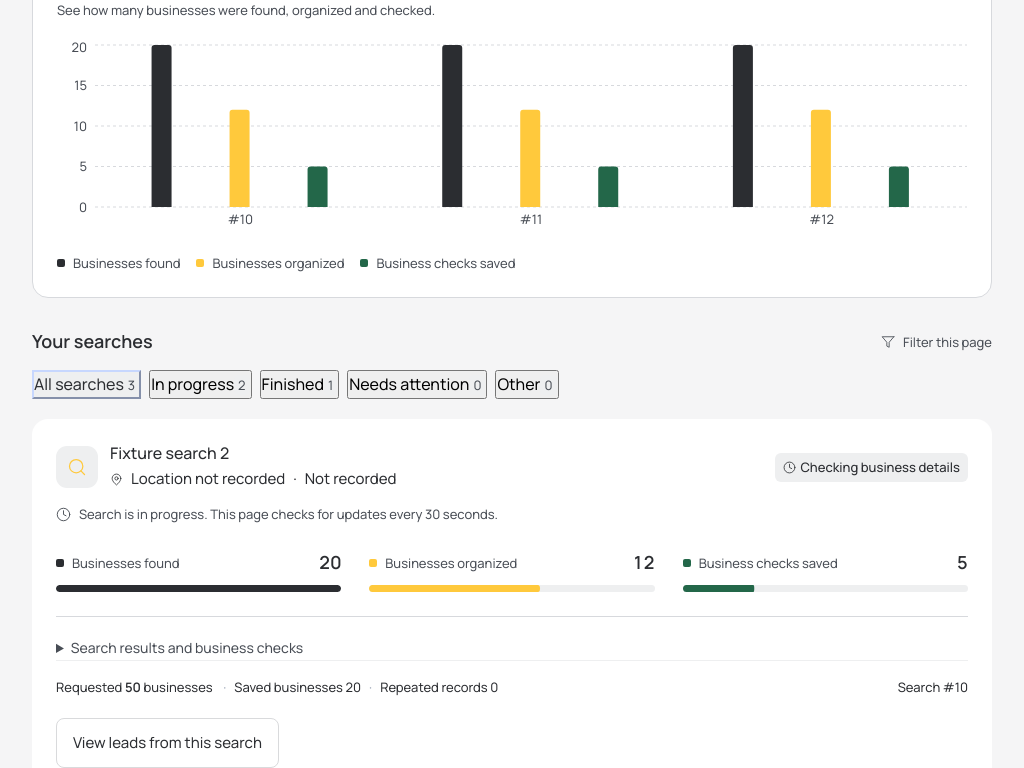
Test: completed searches with checks still running appear in progress in both chart and filter
This screenshot has width=1024, height=768.
(page scrolled)
Click the button "In progress2": x=200, y=384 [149, 370, 252, 399]
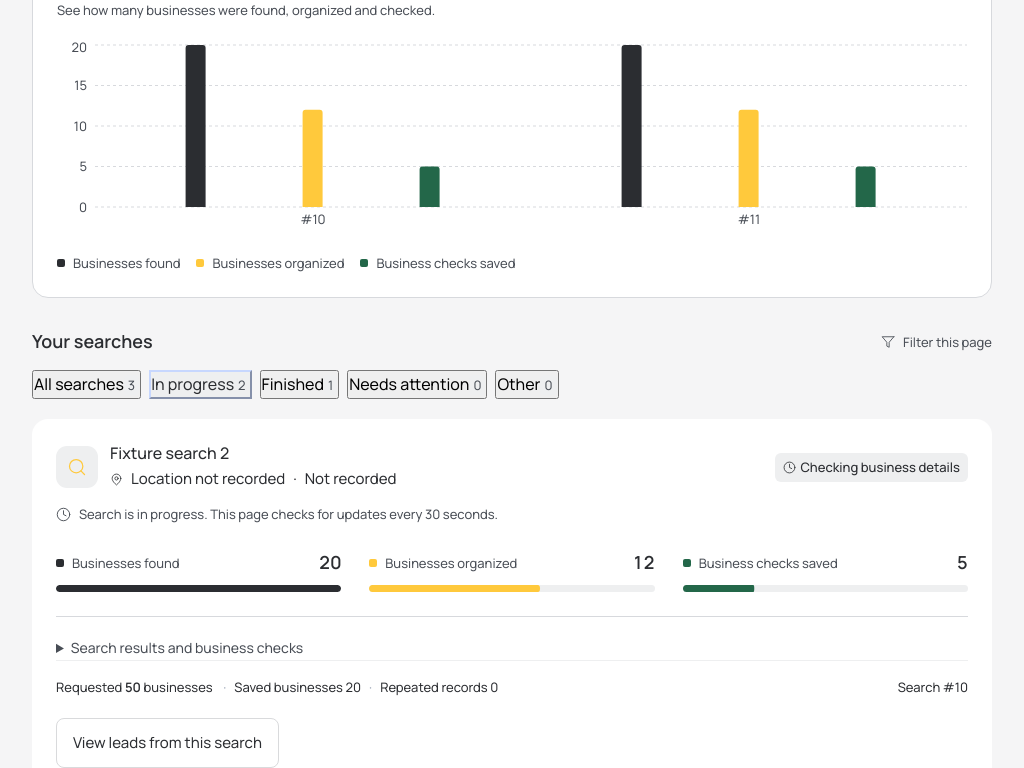
Expected: the element with class "sp-job" shows "Checking business details", [800, 458, 960, 476]
Click the button "Finished1": x=299, y=384 [260, 370, 339, 399]
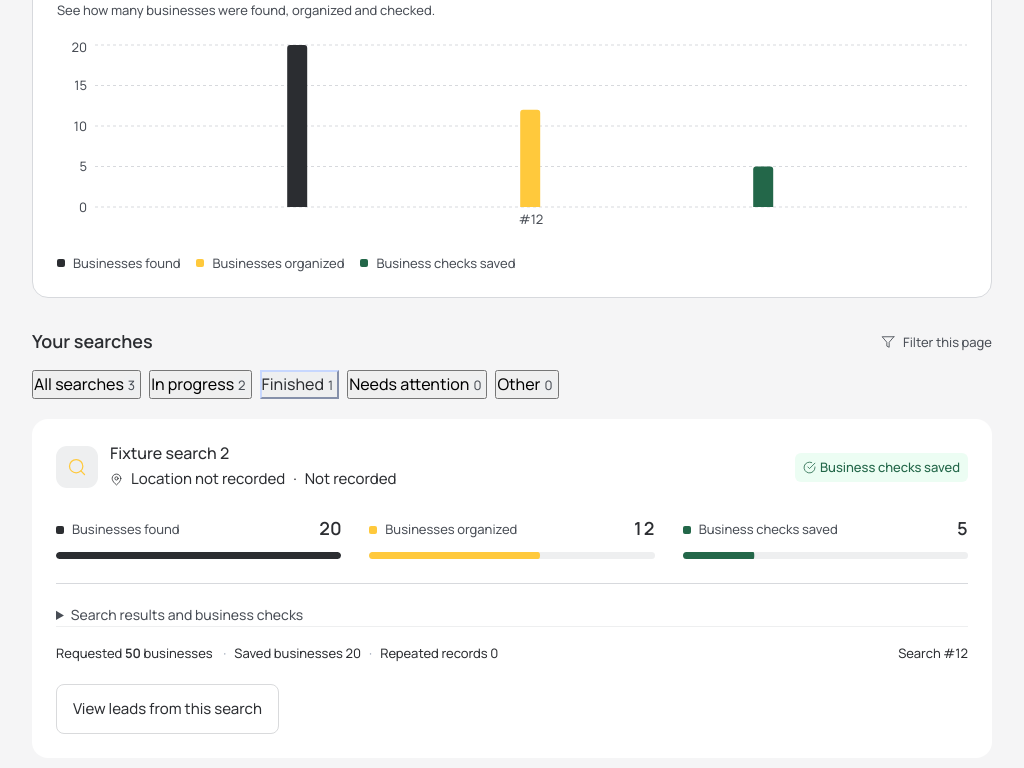
Expected: the element with class "sp-state" reads "Business checks saved", [820, 458, 960, 476]
Result: the number of elements with class "sp-job" is 1 at [32, 419, 992, 758]
